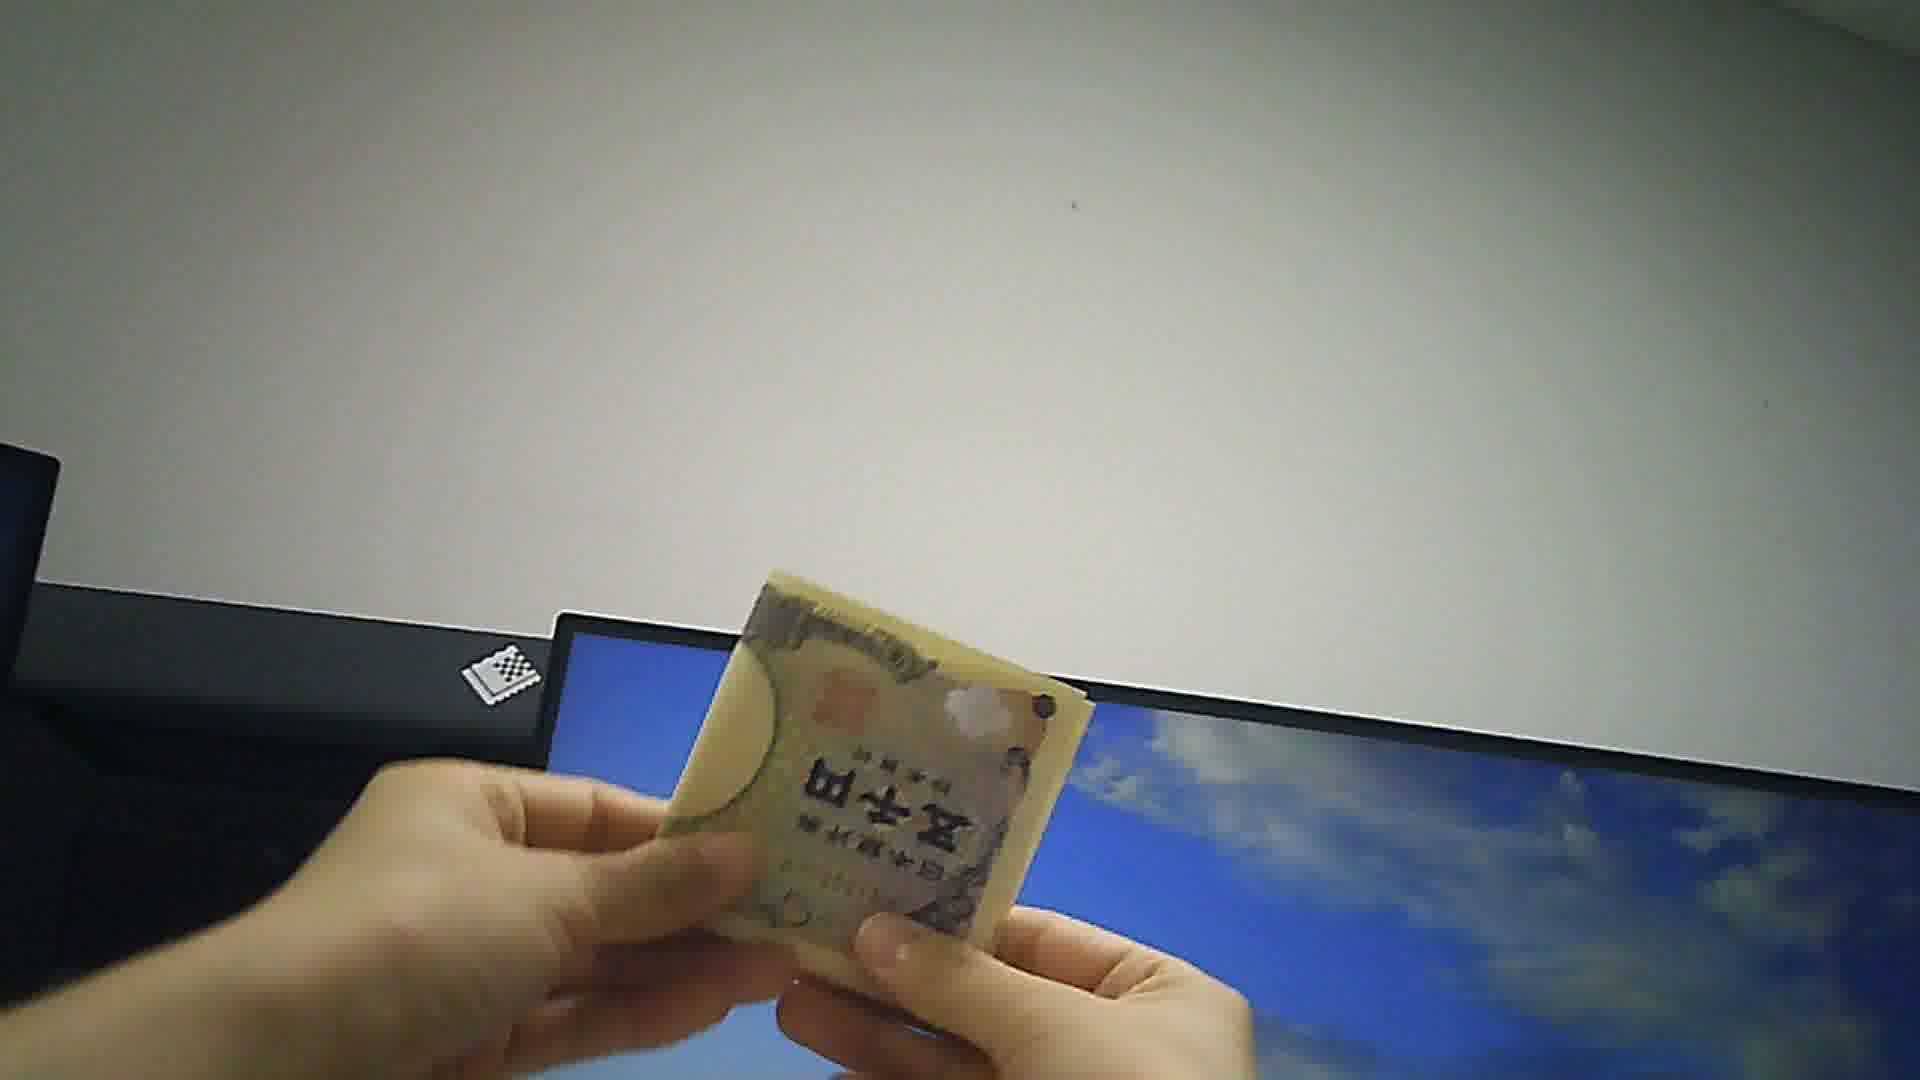5,000 Yen: (632, 559, 1084, 1025)
